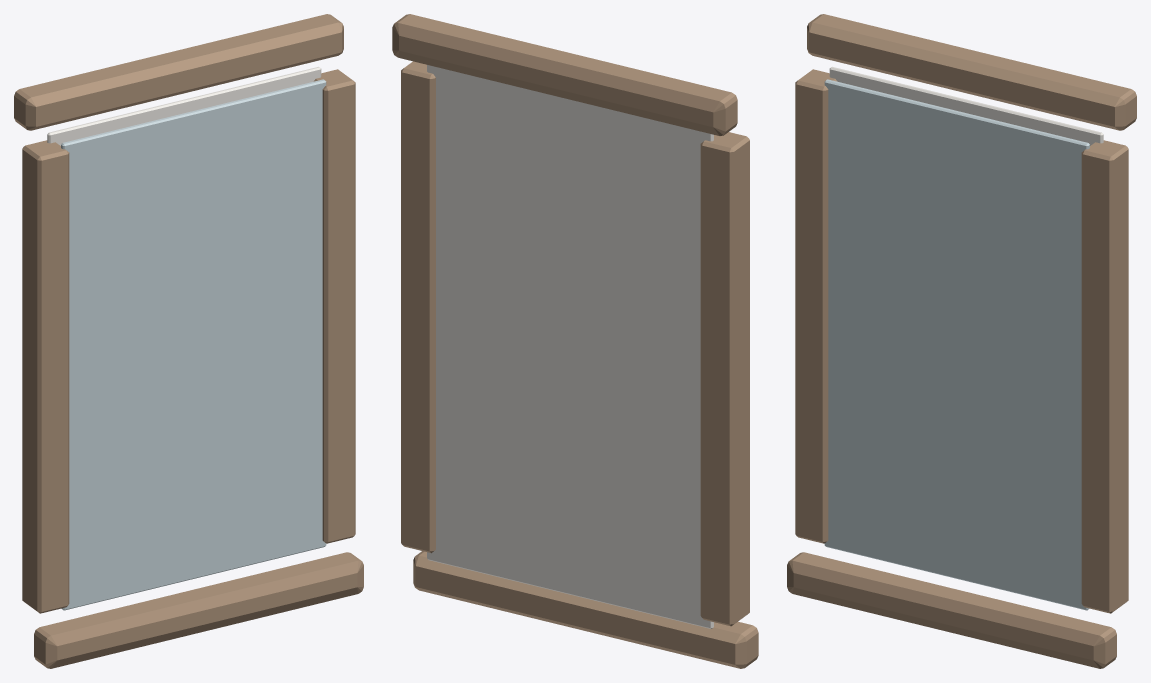
File: hotel-and-resort-operations-corridor-mirror-aab5ac95__25834.glb
3 views of the same model, side by side, from view 1: azimuth 30°, elevation 25°; view 2: azimuth 150°, elevation 25°; view 3: azimuth 330°, elevation 25° (orthographic). The views are drawn at different scales.
Parts seen in each view (by area): view 1: corridor-mirror; view 2: corridor-mirror; view 3: corridor-mirror.
Part boxes in pixels (bbox=[...]): corridor-mirror: bbox=[14, 14, 363, 668]; corridor-mirror: bbox=[392, 14, 758, 668]; corridor-mirror: bbox=[787, 14, 1136, 668].
Bounding box in the file's own units: 0.7001 × 1.17 × 0.14.
